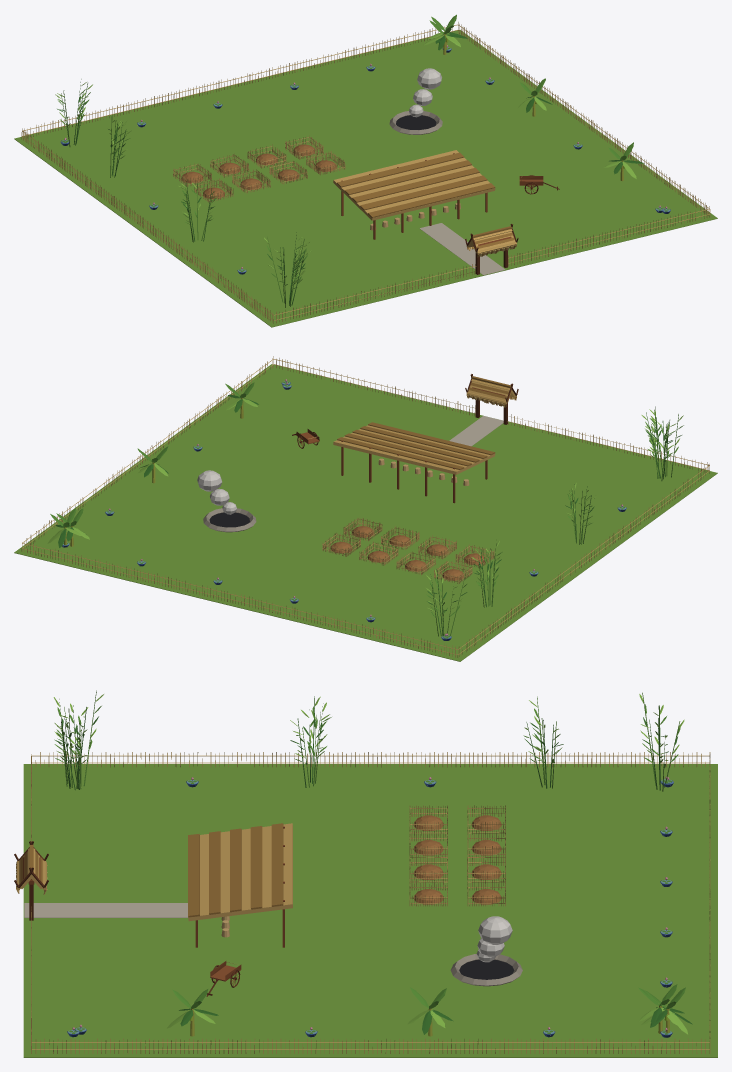
File: waste.glb
3 renders of one model, top to bottom at view 1: azimuth 30°, elevation 25°; view 2: azimuth 150°, elevation 25°; view 3: azimuth 270°, elevation 25°, orthographic. The views are drawn at different scales.
Parts seen in each view (by area): view 1: body; view 2: body; view 3: body.
Part boxes in pixels (left/top/right/bottom): body: left=14, top=14, right=717, bottom=327; body: left=14, top=356, right=717, bottom=661; body: left=14, top=690, right=717, bottom=1057.
Size of the model in its own units: 47.9 by 6.96 by 48.56.
